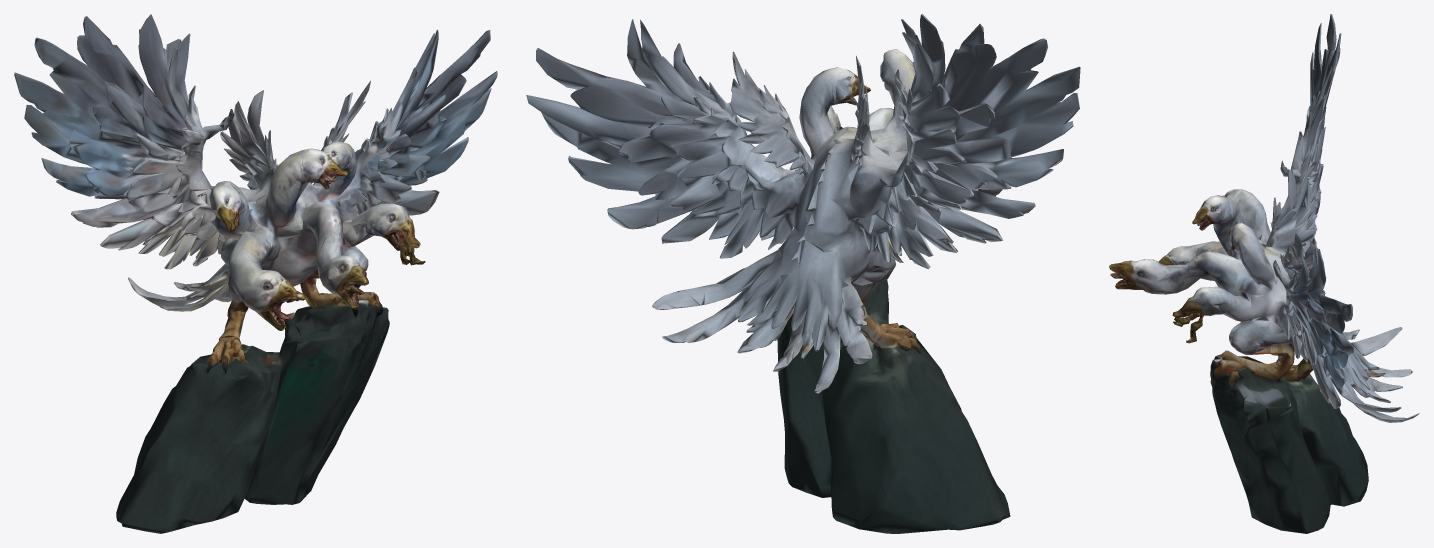
The model's file is goose-hydra.glb.
3 views of the same model, side by side, from view 1: azimuth 30°, elevation 25°; view 2: azimuth 150°, elevation 25°; view 3: azimuth 270°, elevation 25° (orthographic). The views are drawn at different scales.
Parts seen in each view (by area): view 1: mesh_node; view 2: mesh_node; view 3: mesh_node.
Boxes of the visible parts, x1=… form: mesh_node: x1=14, y1=14, x2=497, y2=533; mesh_node: x1=526, y1=14, x2=1080, y2=533; mesh_node: x1=1109, y1=14, x2=1419, y2=533.
Size of the model in its own units: 1.9 by 1.76 by 1.19.
Materials: 1 (1 with a texture image).
